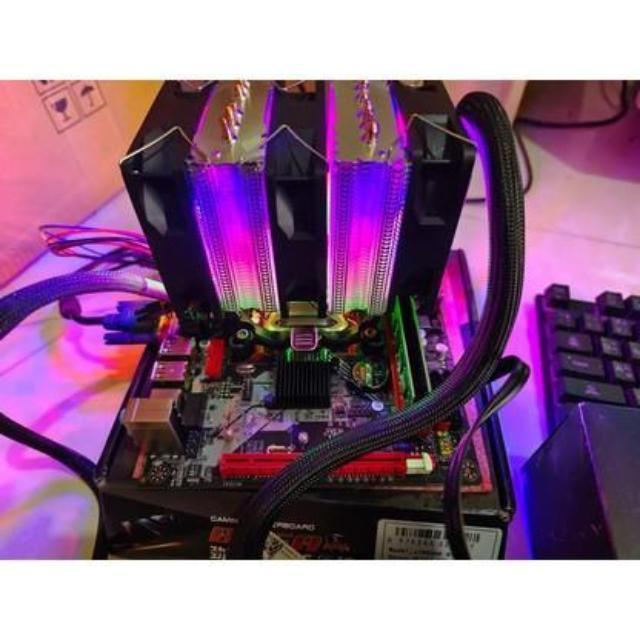CPU_Fan: (122, 72, 476, 410)
